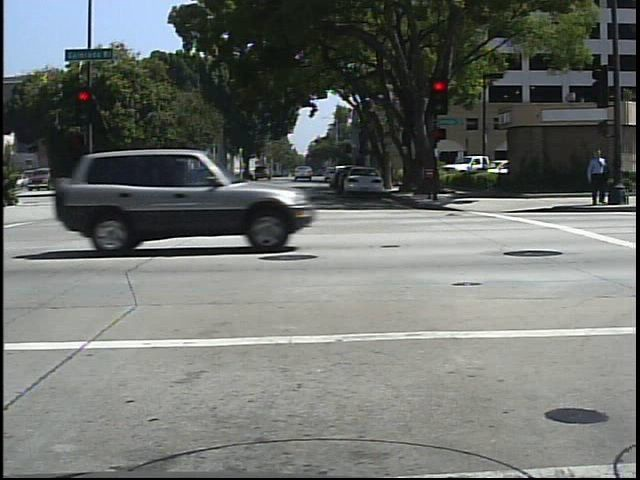person: (138, 155, 171, 219), (586, 143, 608, 209)
